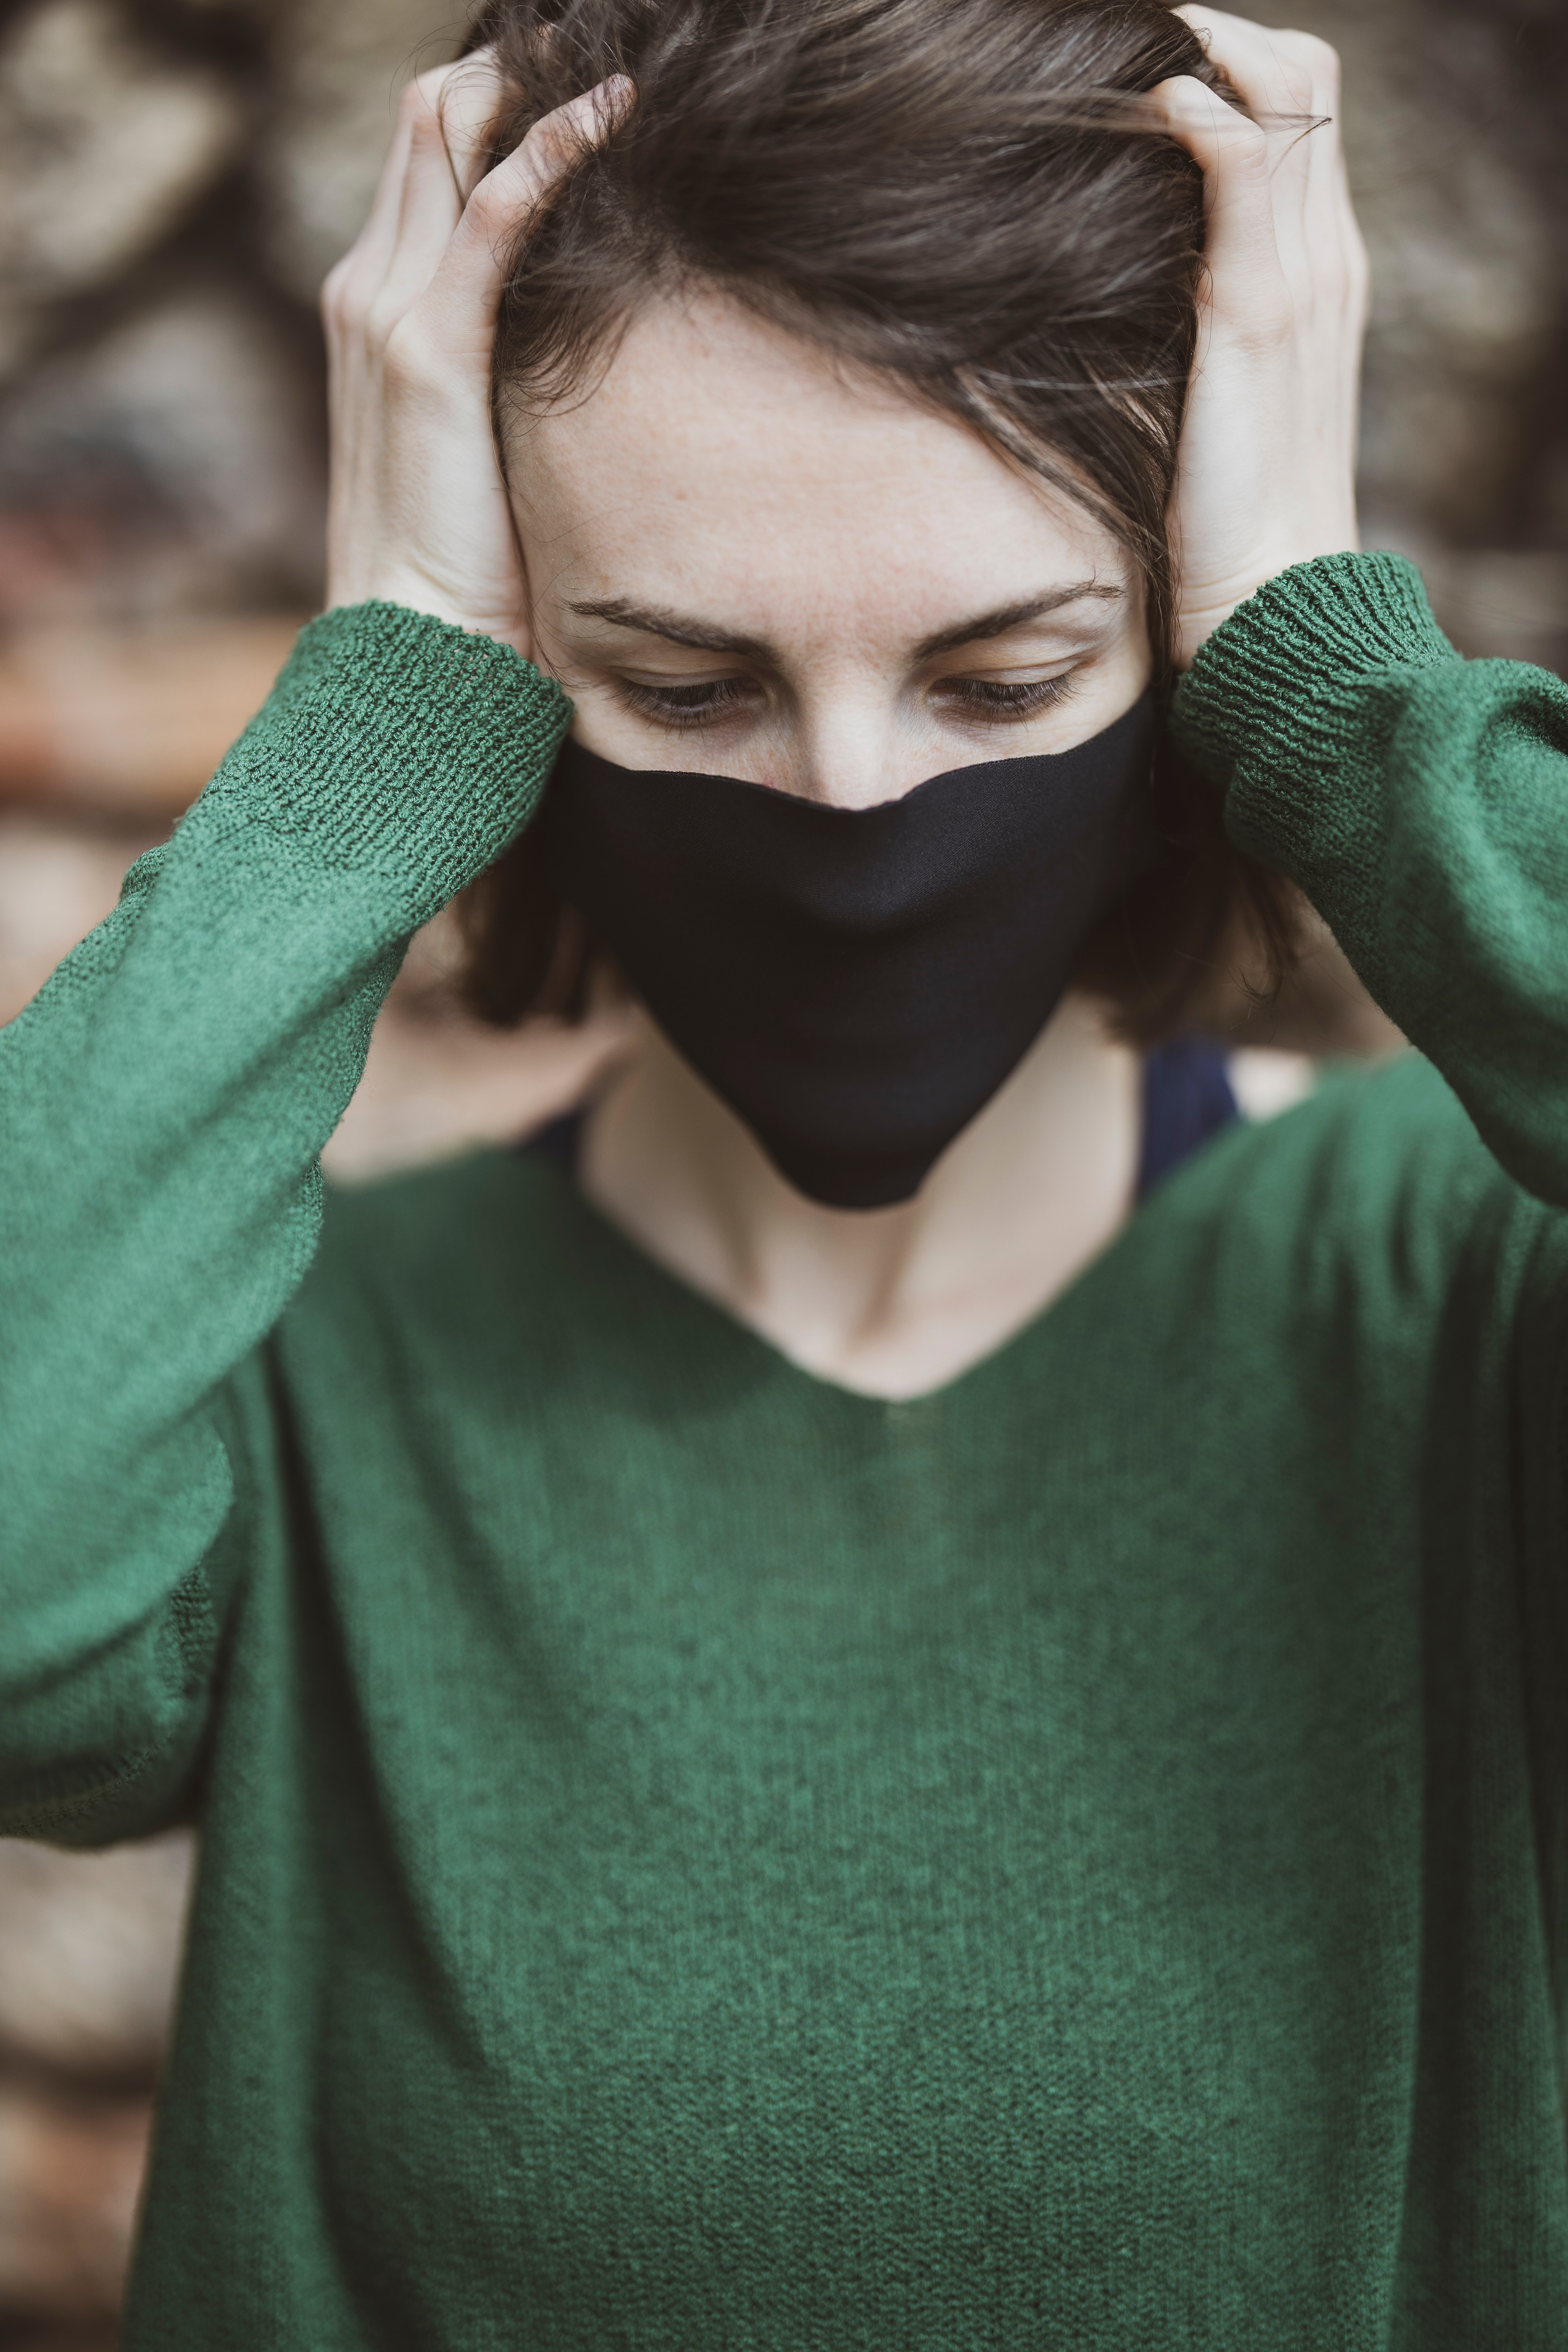mask: (528, 720, 1212, 1196)
person: (27, 3, 1501, 2352)
